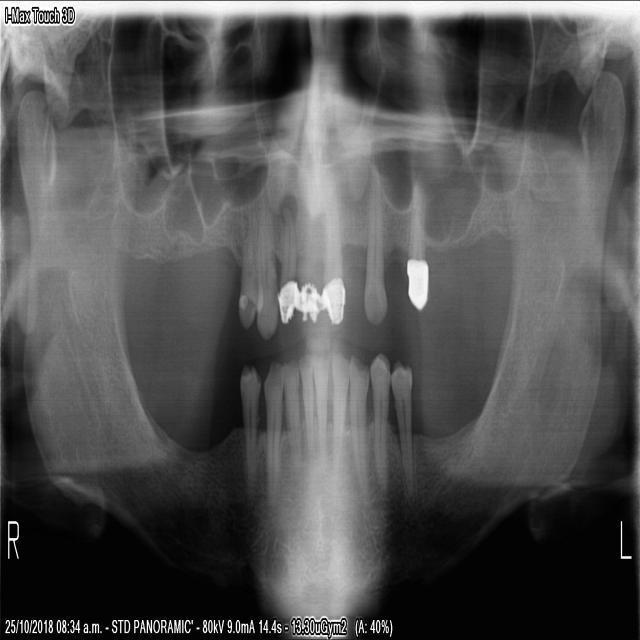LCD: (347, 344, 370, 460)
LCU: (361, 201, 387, 326)
LID: (330, 345, 349, 465), (311, 344, 329, 462)
LIU: (321, 218, 347, 324)
LPMD: (387, 356, 416, 494), (369, 344, 390, 490)
LPMU: (402, 202, 428, 315)
RCD: (261, 353, 282, 495)
RCU: (254, 214, 279, 344)
RID: (281, 349, 305, 465), (295, 342, 315, 460)
RIU: (293, 212, 319, 321), (276, 209, 301, 322)
RPMD: (237, 358, 261, 497)
RPMU: (233, 222, 260, 332)
